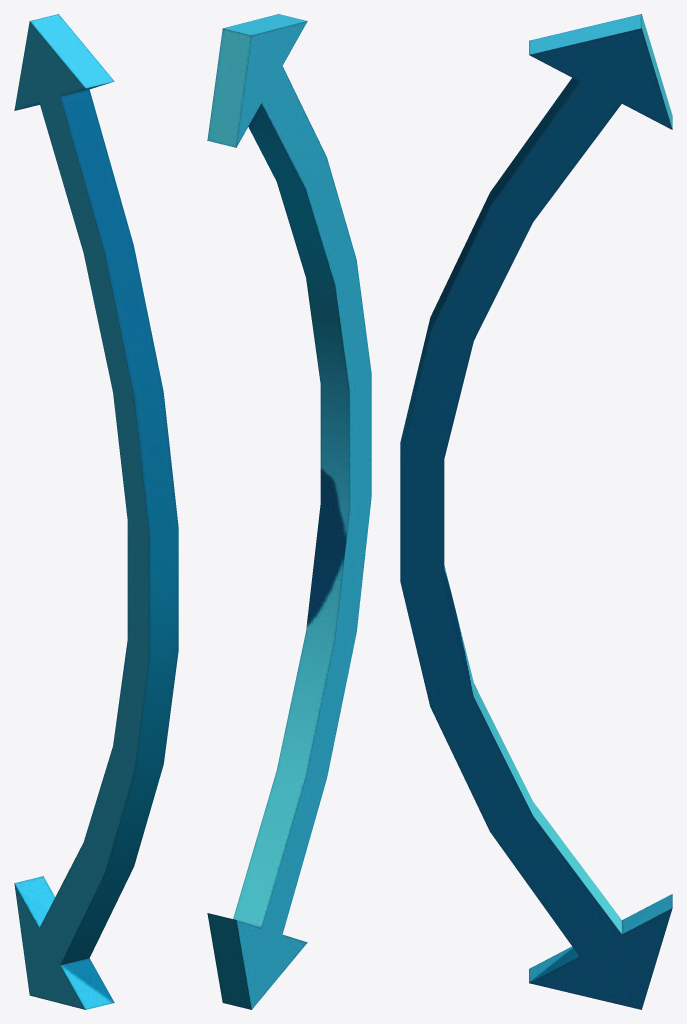
Rendered from barrelGripOn.obj.
3 views of the same model, side by side, from view 1: azimuth 30°, elevation 25°; view 2: azimuth 150°, elevation 25°; view 3: azimuth 270°, elevation 25° (orthographic).
Visible parts, largest first — view 1: Object002; view 2: Object002; view 3: Object002.
Boxes of the visible parts, x1,y1,x2,y2 form: Object002: (14,14,178,1009); Object002: (207,14,371,1009); Object002: (400,14,672,1009).
Bounding box in the file's own units: 4.5 × 144 × 36.23.
1 material, 1 textured.
